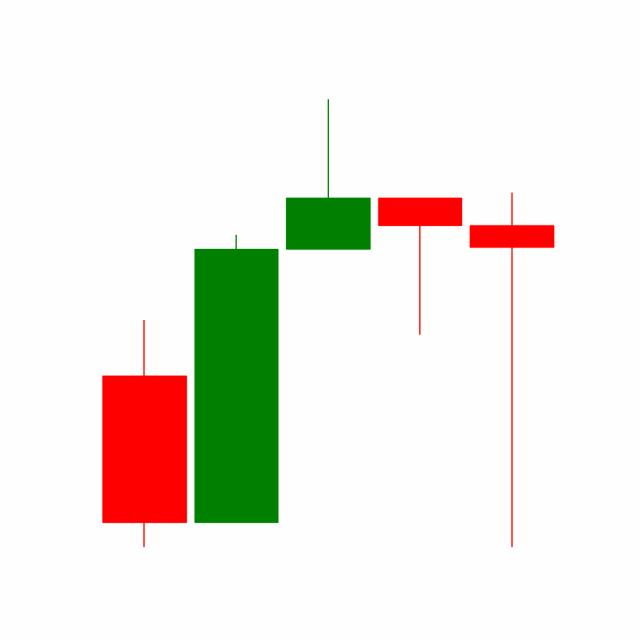Hammer: (373, 196, 467, 336)
